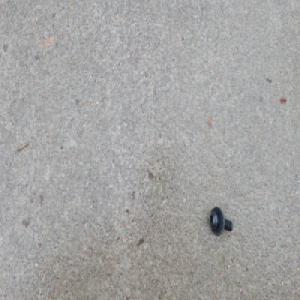BoltWasher: (210, 203, 234, 235)
